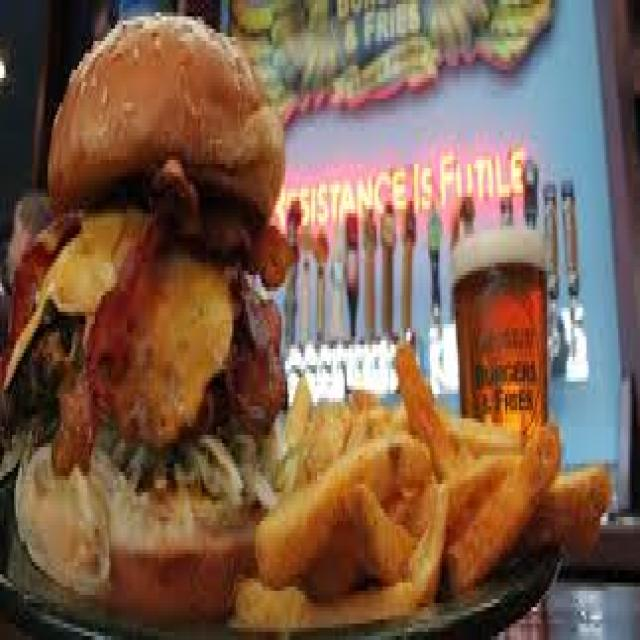Burger: (10, 9, 281, 626)
French Fries: (266, 369, 608, 628)
